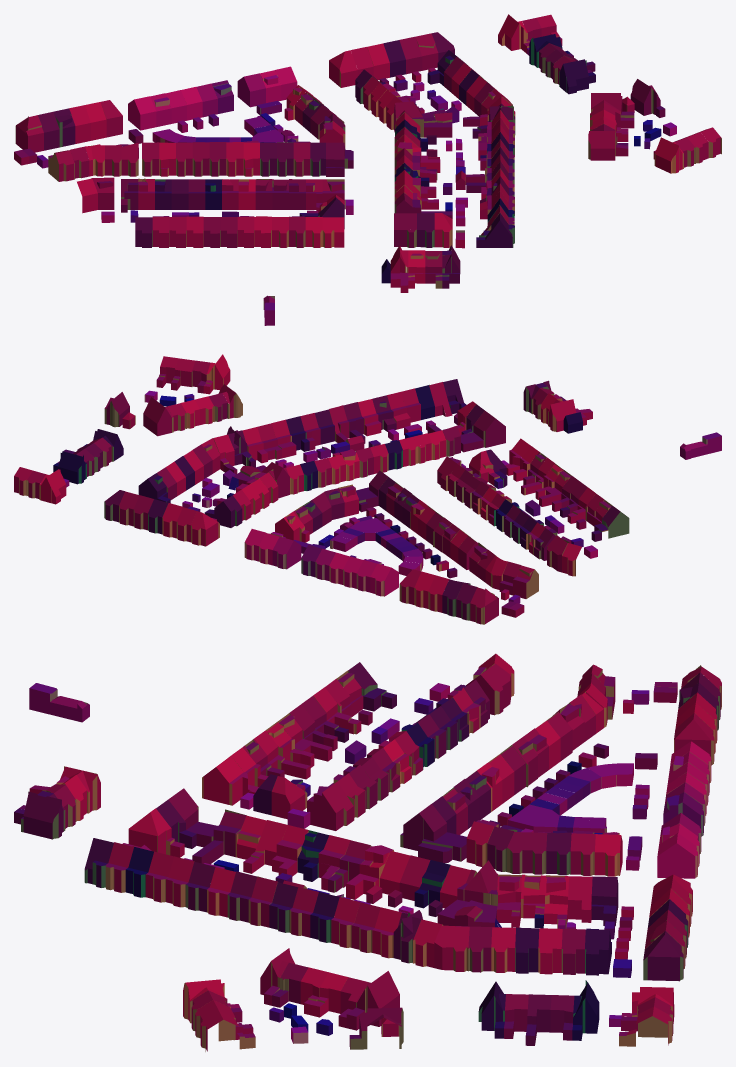
File: buildings_4_5.glb
3 renders of one model, top to bottom at view 1: azimuth 30°, elevation 25°; view 2: azimuth 150°, elevation 25°; view 3: azimuth 270°, elevation 25°, orthographic. The views are drawn at different scales.
Visible parts, largest first — view 1: buildings_4_5; view 2: buildings_4_5; view 3: buildings_4_5.
Part boxes in pixels (bbox=[...]): buildings_4_5: bbox=[14, 14, 721, 325]; buildings_4_5: bbox=[14, 354, 721, 624]; buildings_4_5: bbox=[14, 653, 721, 1051].
Bounding box in the file's own units: 205 × 11.46 × 169.
